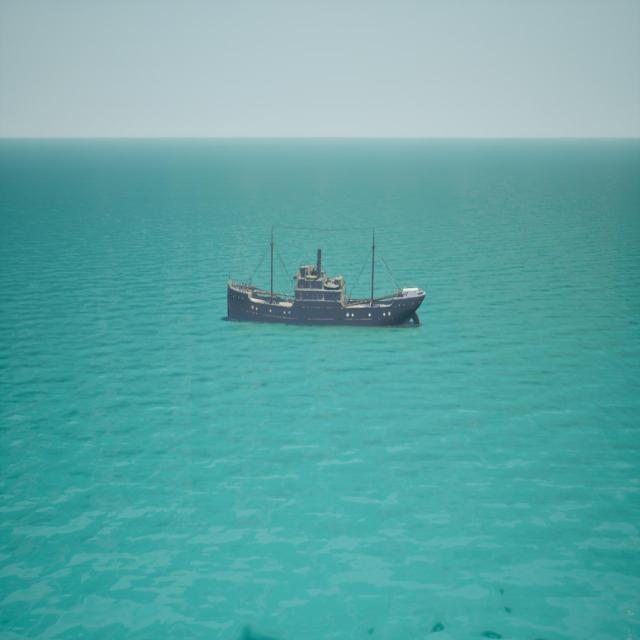fishing ship: (227, 227, 427, 329)
